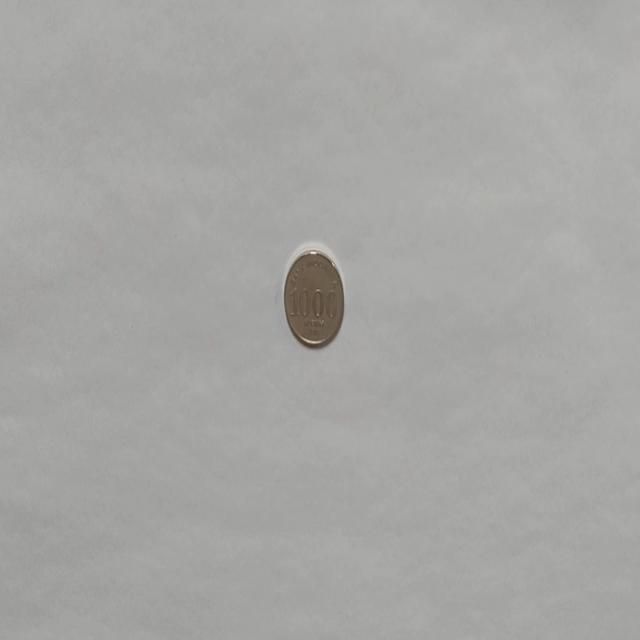seribu rupiah koin: (282, 244, 345, 348)
